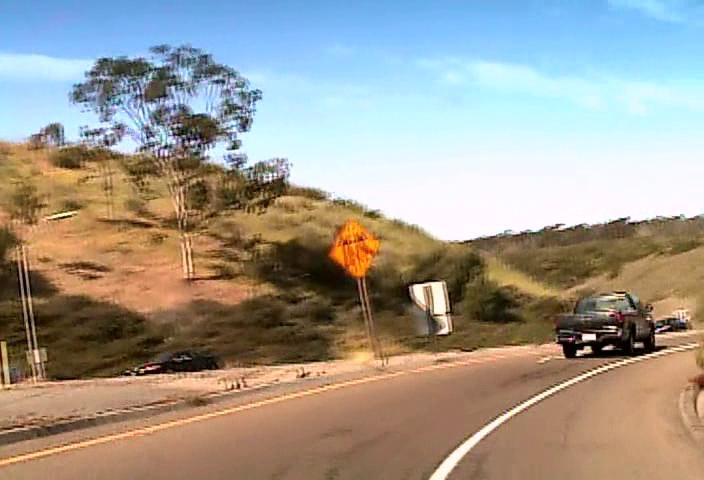addedLane: (328, 217, 380, 278)
